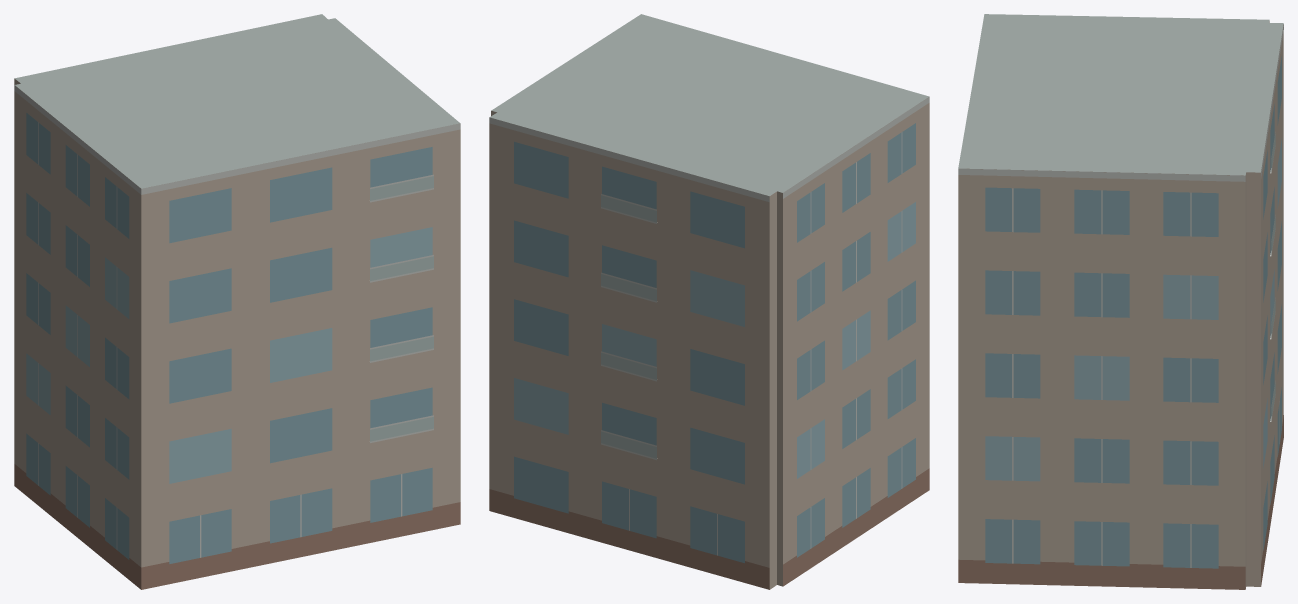
The model's file is survey-upis-32928342.glb.
3 views of the same model, side by side, from view 1: azimuth 30°, elevation 25°; view 2: azimuth 150°, elevation 25°; view 3: azimuth 270°, elevation 25° (orthographic). The views are drawn at different scales.
Parts seen in each view (by area): view 1: survey-upis-32928342.tmp; view 2: survey-upis-32928342.tmp; view 3: survey-upis-32928342.tmp.
Part boxes in pixels (box(x1,y1,x2,y2)): survey-upis-32928342.tmp: box(14, 14, 460, 589); survey-upis-32928342.tmp: box(489, 14, 929, 589); survey-upis-32928342.tmp: box(958, 14, 1283, 589).
Bounding box in the file's own units: 13.3 × 15.9 × 11.33.
